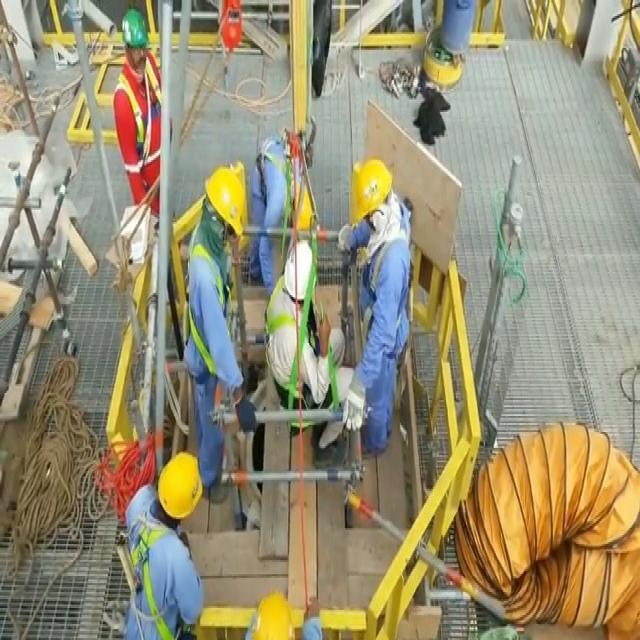Person: (183, 168, 253, 497), (343, 148, 412, 458), (130, 455, 207, 640), (108, 3, 165, 203)
